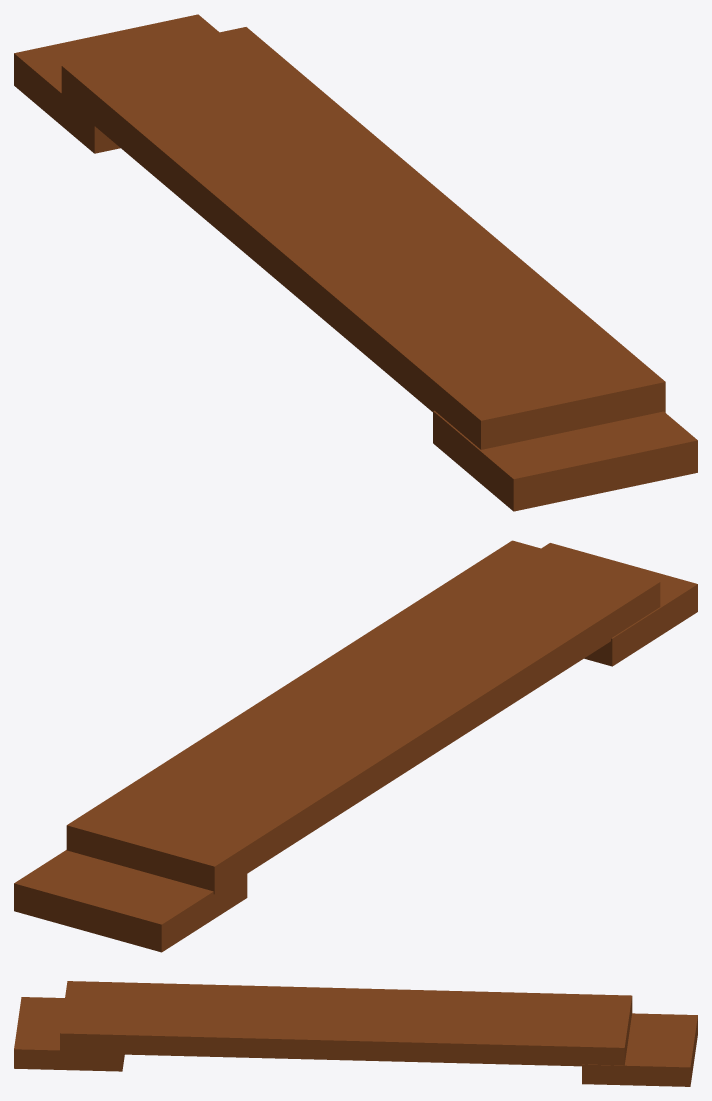
Rendered from puente_joan.fbx.
The picture shows the model from 3 angles, top to bottom: view 1: azimuth 30°, elevation 25°; view 2: azimuth 150°, elevation 25°; view 3: azimuth 270°, elevation 25°; orthographic projection. The views are drawn at different scales.
Parts seen in each view (by area): view 1: Cube.030; view 2: Cube.030; view 3: Cube.030.
Part boxes in pixels (bbox=[...]): Cube.030: bbox=[14, 14, 697, 511]; Cube.030: bbox=[14, 540, 697, 952]; Cube.030: bbox=[14, 981, 697, 1086].
Size of the model in its own units: 1170 by 287 by 4798.
